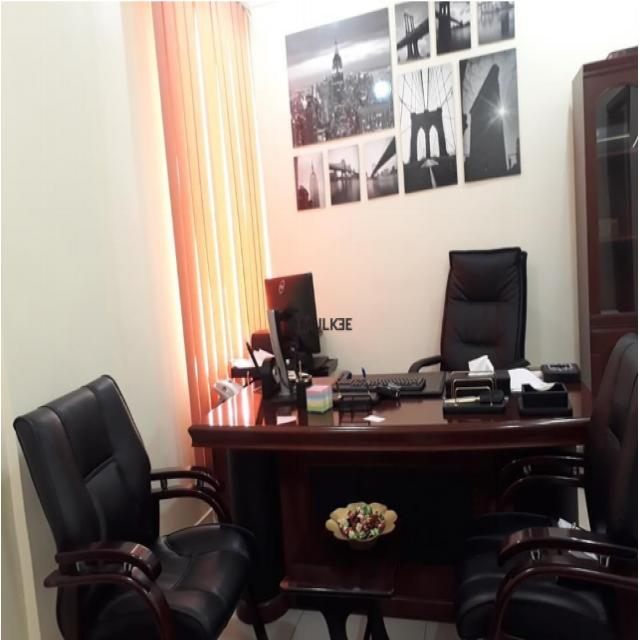chair: (10, 401, 269, 639), (458, 374, 640, 640), (427, 243, 525, 387)
computer: (261, 271, 347, 401)
desk: (204, 334, 597, 547)
